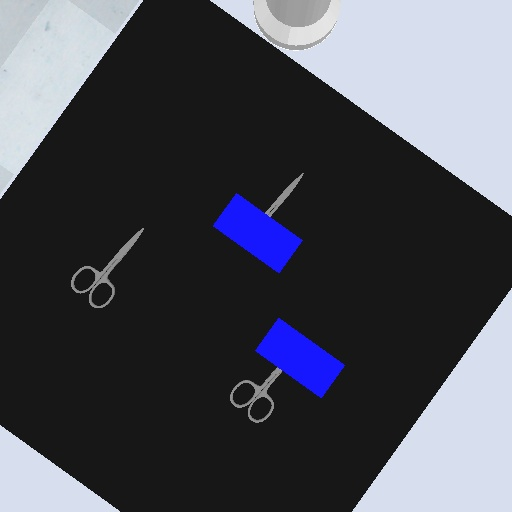tijera: (68, 224, 146, 312), (227, 365, 286, 427), (263, 171, 307, 218)
